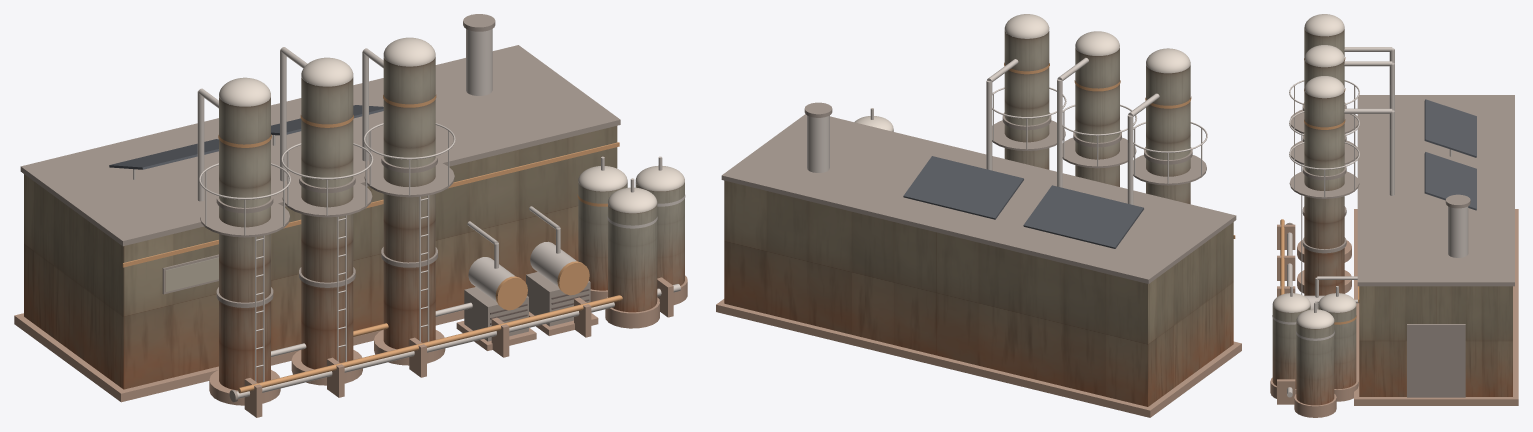
File: E12_fuel_plant_small.glb
The picture shows the model from 3 angles, left to right: view 1: azimuth 30°, elevation 25°; view 2: azimuth 150°, elevation 25°; view 3: azimuth 270°, elevation 25°; orthographic projection. The views are drawn at different scales.
Parts seen in each view (by area): view 1: process_hall, column (×3), roof_edge, storage_tank (×3), service_platform (×3), ground_manifold (×2), column_head (×3), foundation, housing (×2), tank_head (×3), overhead_pipe (×3), cylinder (×2) (+7 smaller); view 2: process_hall, roof_edge, column (×3), roof_radiator (×2), foundation, service_platform (×3), column_head (×3), overhead_pipe (×3), vent_stack; view 3: roof_edge, process_hall, column (×3), storage_tank (×3), service_door, roof_radiator (×2), foundation, column_head (×3), service_platform (×3), tank_head (×3), overhead_pipe (×5), pipe_rack (×3) (+7 smaller).
Boxes of the visible parts, box(x1,y1,x2,y2) form: process_hall: box(24, 126, 617, 389); column (×3): box(219, 57, 435, 390); roof_edge: box(20, 45, 620, 246); storage_tank (×3): box(578, 182, 684, 312); service_platform (×3): box(200, 161, 454, 237); ground_manifold (×2): box(236, 284, 680, 398); column_head (×3): box(219, 37, 435, 106); foundation: box(14, 310, 464, 402); housing (×2): box(464, 272, 590, 341); tank_head (×3): box(578, 165, 684, 213); overhead_pipe (×3): box(197, 49, 368, 201); cylinder (×2): box(468, 241, 576, 301); process_hall: box(724, 180, 1233, 406); roof_edge: box(721, 114, 1236, 283); column (×3): box(1004, 31, 1190, 204); roof_radiator (×2): box(903, 156, 1143, 248); foundation: box(716, 299, 1241, 417); service_platform (×3): box(992, 120, 1206, 185); column_head (×3): box(1004, 14, 1190, 73); overhead_pipe (×3): box(986, 79, 1133, 204); vent_stack: box(807, 115, 829, 172); roof_edge: box(1357, 95, 1514, 286); process_hall: box(1359, 286, 1512, 396); column (×3): box(1304, 28, 1344, 295); storage_tank (×3): box(1272, 306, 1356, 405); service_door: box(1407, 324, 1465, 397); roof_radiator (×2): box(1424, 99, 1476, 210); foundation: box(1354, 209, 1518, 405); column_head (×3): box(1304, 14, 1344, 98); service_platform (×3): box(1289, 109, 1359, 198); tank_head (×3): box(1272, 293, 1356, 328); overhead_pipe (×5): box(1344, 47, 1394, 195); pipe_rack (×3): box(1277, 224, 1295, 404).
Size of the model in its own units: 13.08 by 7.18 by 6.78.
Materials: 12 (3 with a texture image).
